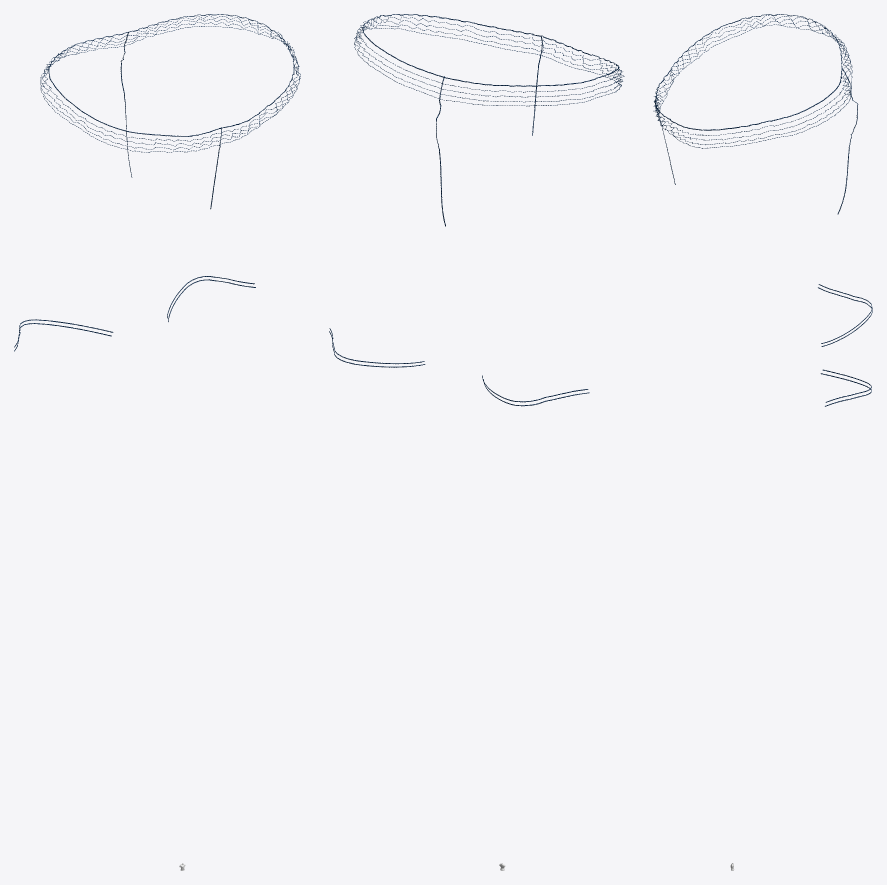
Rendered from compression1-transformed.glb.
The picture shows the model from 3 angles, left to right: view 1: azimuth 30°, elevation 25°; view 2: azimuth 150°, elevation 25°; view 3: azimuth 270°, elevation 25°; orthographic projection. The views are drawn at different scales.
Parts seen in each view (by area): view 1: Puntada006_material_Shader[3355536]_0; view 2: Puntada006_material_Shader[3355536]_0; view 3: Puntada006_material_Shader[3355536]_0.
Part boxes in pixels (bbox=[...]): Puntada006_material_Shader[3355536]_0: bbox=[14, 14, 300, 351]; Puntada006_material_Shader[3355536]_0: bbox=[329, 14, 624, 406]; Puntada006_material_Shader[3355536]_0: bbox=[653, 14, 872, 406].
Bounding box in the file's own units: 35.66 × 111 × 27.38.
4 materials, 3 textured.
